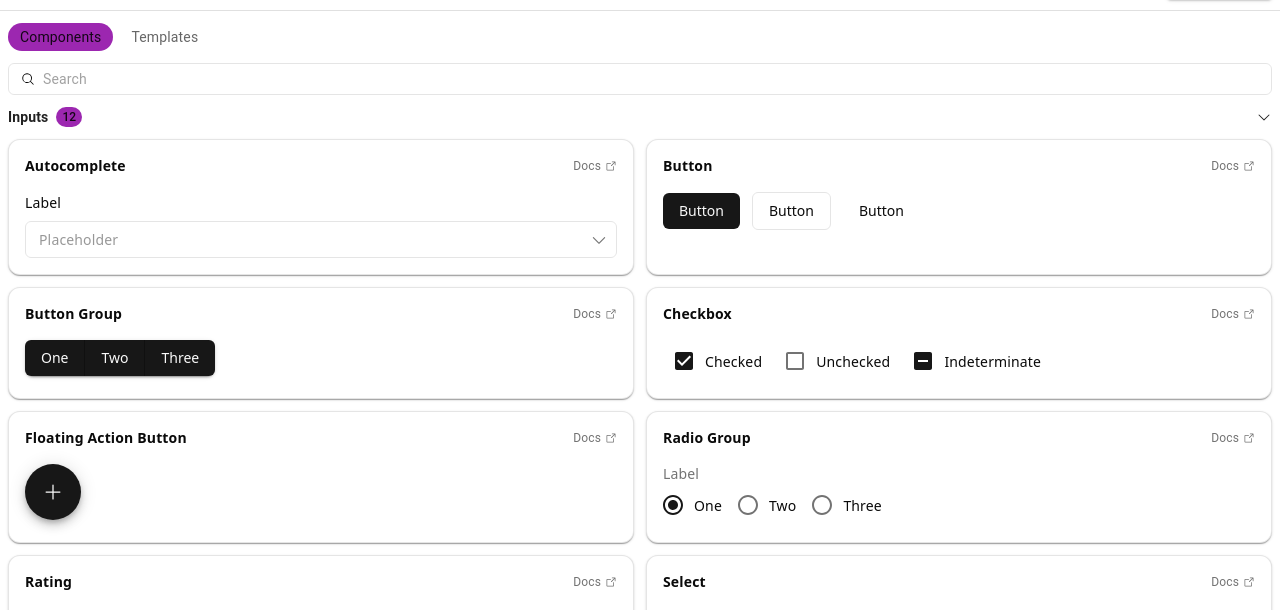
Test: PreviewArea (Phase 3) › collapses and expands a category section from its header
Click the text "Inputs" at (28, 117), box [8, 107, 48, 127]
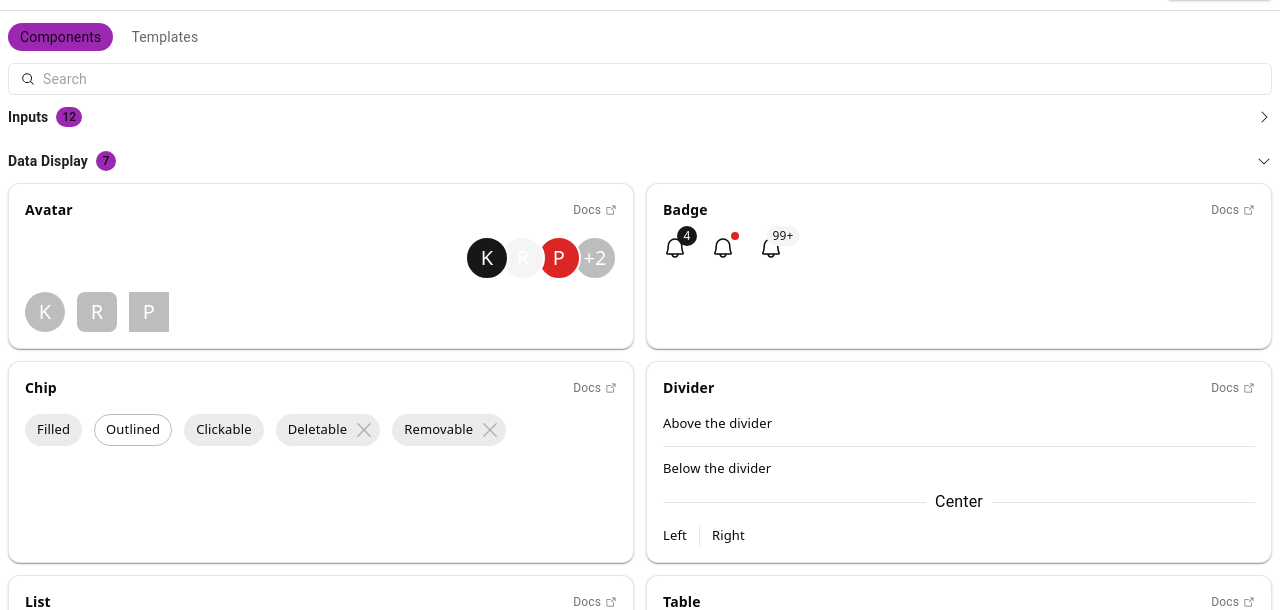
Click the text "Inputs" at (28, 117), box [8, 107, 48, 127]
(page scrolled)
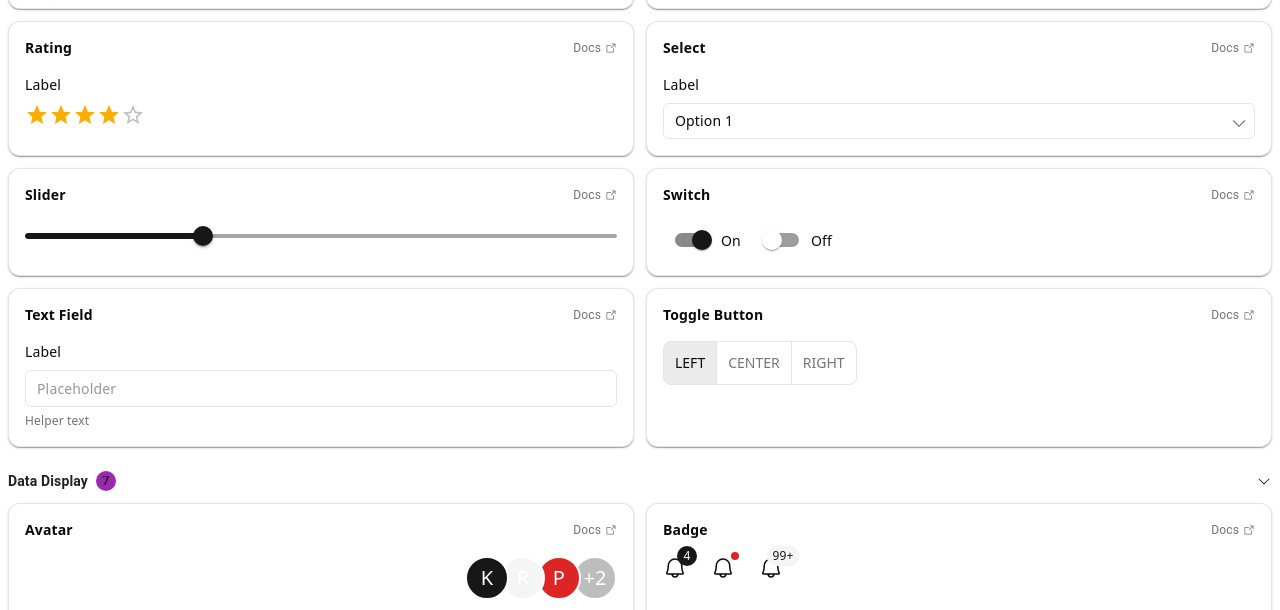
Check: the text "Text Field" is shown, box [25, 305, 93, 325]
